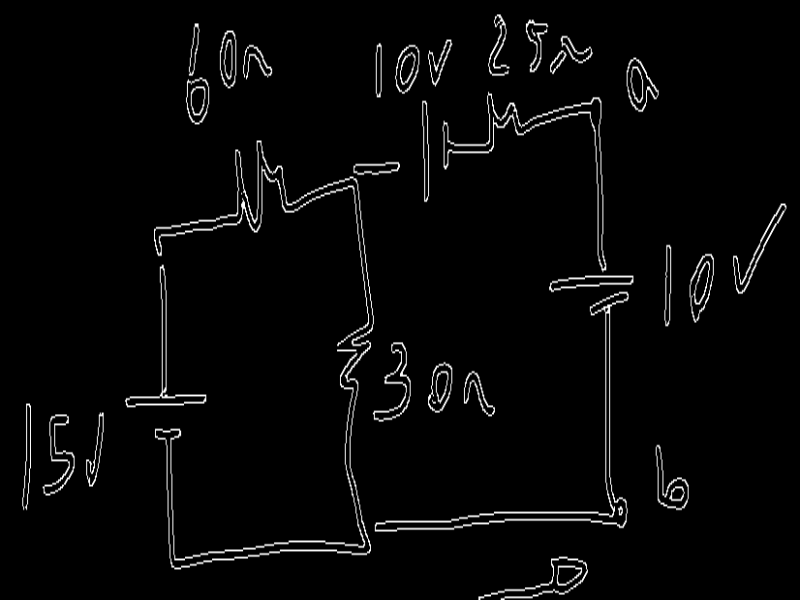0: (687, 251, 715, 327), (425, 359, 455, 414), (393, 43, 421, 99), (218, 26, 239, 91)
1: (19, 400, 34, 515), (663, 243, 673, 333), (373, 39, 384, 101)
2: (487, 10, 513, 79)
3: (373, 338, 412, 428)
5: (41, 407, 75, 498), (524, 16, 549, 69)
6: (183, 17, 211, 125)
V: (731, 201, 790, 296), (84, 411, 105, 493), (427, 36, 454, 86)
